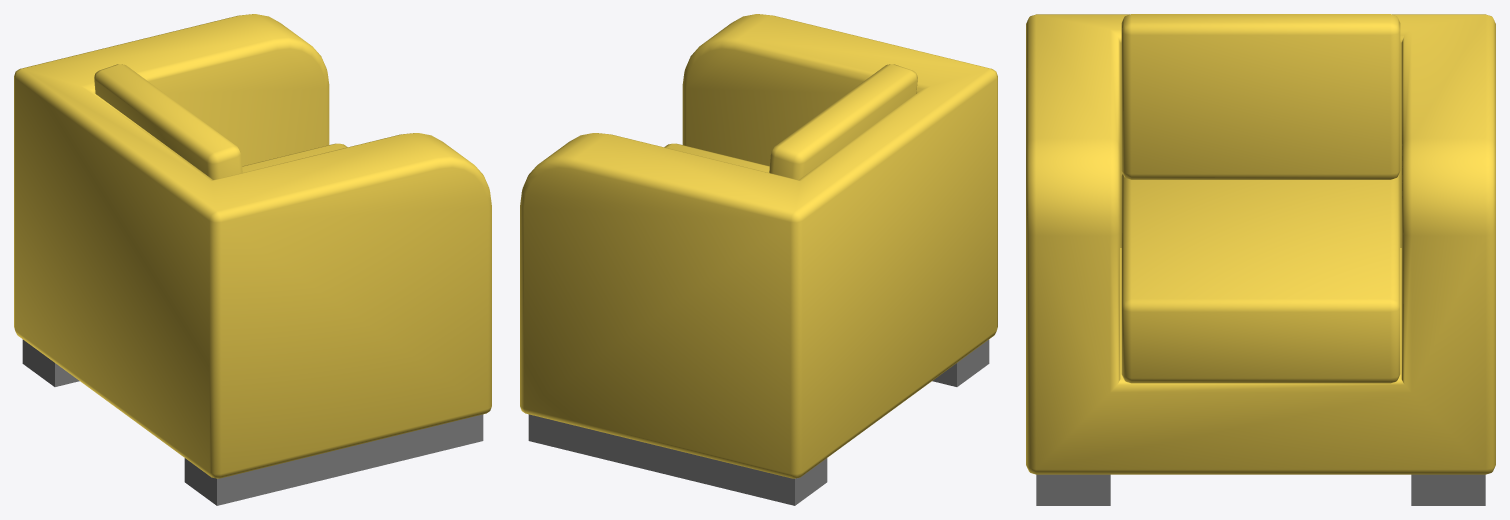
Rendered from Armchair_01.fbx.
3 views of the same model, side by side, from view 1: azimuth 30°, elevation 25°; view 2: azimuth 150°, elevation 25°; view 3: azimuth 270°, elevation 25° (orthographic). The views are drawn at different scales.
Parts seen in each view (by area): view 1: Sofa_Single; view 2: Sofa_Single; view 3: Sofa_Single.
Part boxes in pixels (x1,y1,x2,y2): Sofa_Single: (14, 14, 491, 505); Sofa_Single: (520, 14, 997, 505); Sofa_Single: (1026, 14, 1495, 505).
Size of the model in its own units: 82.4 by 85.72 by 100.
